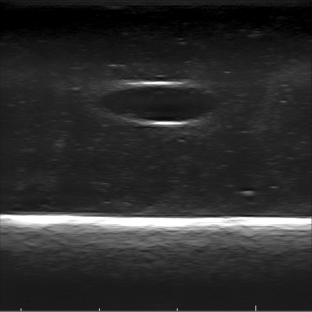vessel: (101, 80, 217, 128)
